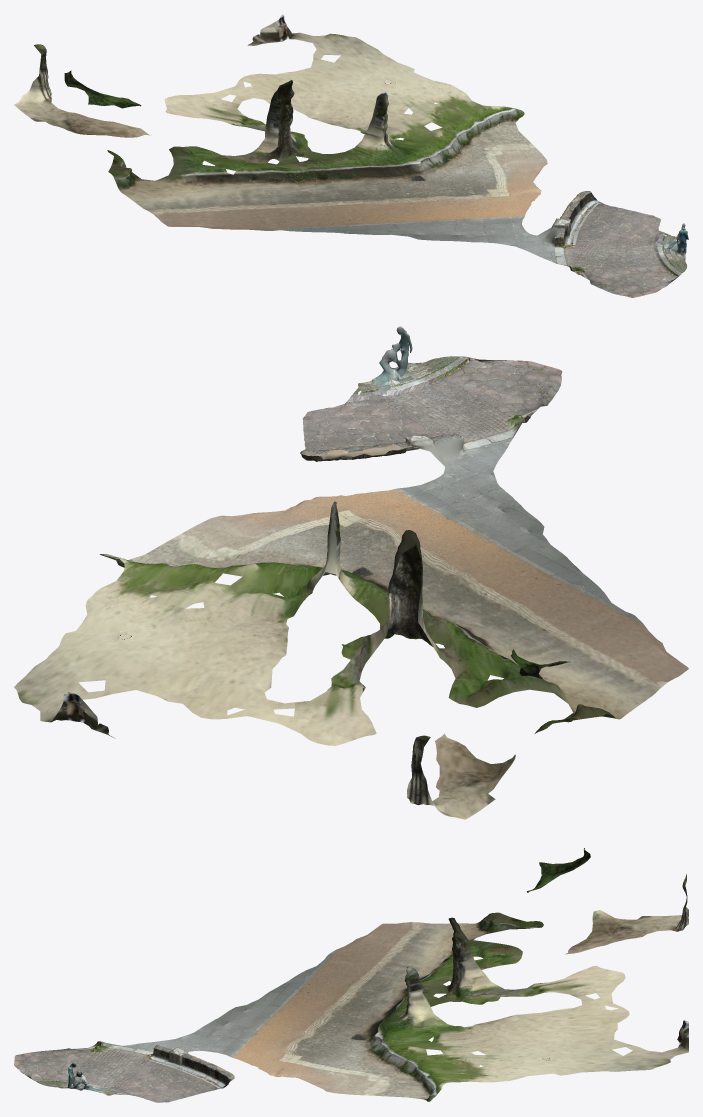
The picture shows the model from 3 angles, top to bottom: view 1: azimuth 30°, elevation 25°; view 2: azimuth 150°, elevation 25°; view 3: azimuth 270°, elevation 25°; orthographic projection. The views are drawn at different scales.
Visible parts, largest first — view 1: baked_mesh_49e6821a; view 2: baked_mesh_49e6821a; view 3: baked_mesh_49e6821a.
Part boxes in pixels (bbox=[...]): baked_mesh_49e6821a: bbox=[14, 14, 688, 297]; baked_mesh_49e6821a: bbox=[14, 326, 688, 819]; baked_mesh_49e6821a: bbox=[14, 848, 688, 1102].
Bounding box in the file's own units: 4.07 × 0.8675 × 6.42.
1 material, 1 textured.
